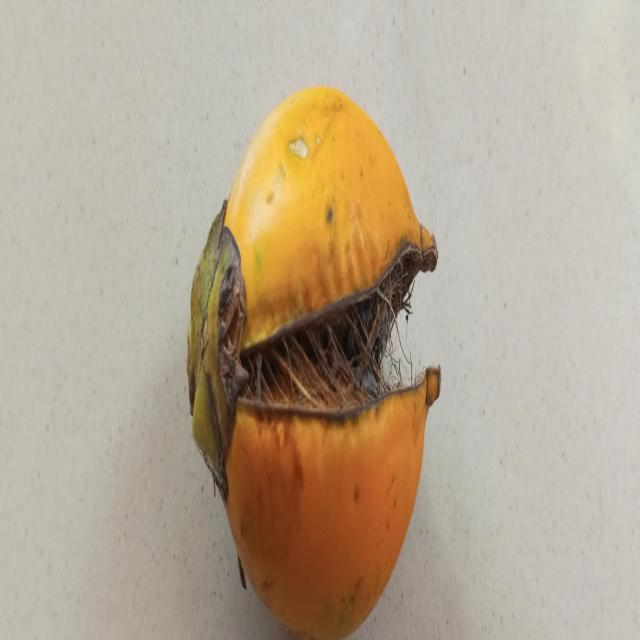damaged: (187, 86, 441, 640)
